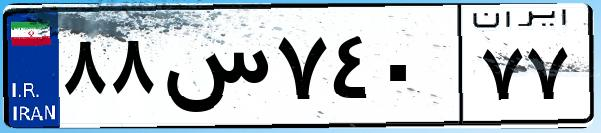0: (385, 28, 445, 110)
4: (330, 28, 385, 110)
7: (270, 28, 330, 110), (475, 38, 525, 113), (525, 38, 570, 115)
8: (57, 26, 110, 100), (110, 28, 158, 98)
س: (158, 20, 270, 120)
